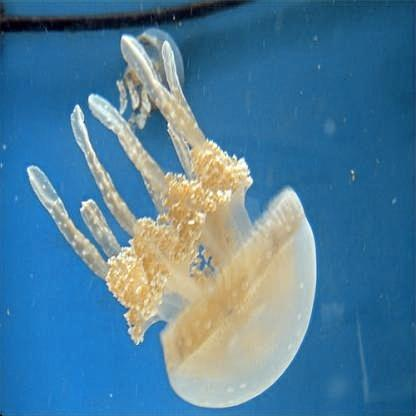LightHouse: (25, 39, 319, 405), (118, 35, 188, 125)
